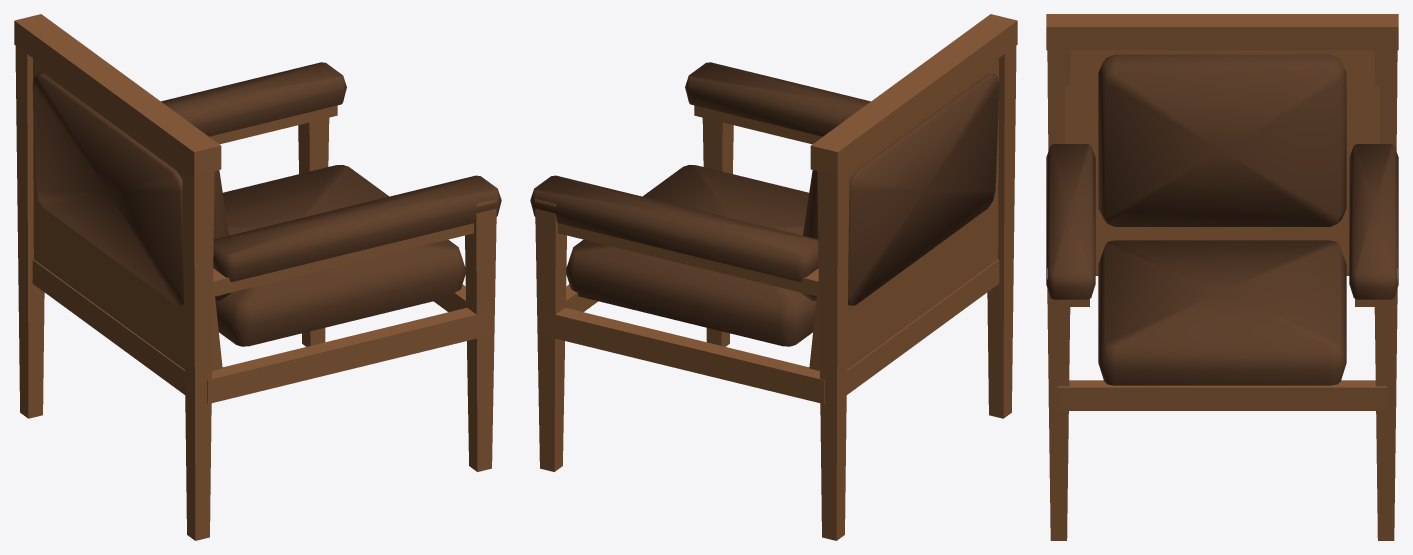
File: parametric-armchair-service.glb
3 views of the same model, side by side, from view 1: azimuth 30°, elevation 25°; view 2: azimuth 150°, elevation 25°; view 3: azimuth 270°, elevation 25° (orthographic). The views are drawn at different scales.
Parts seen in each view (by area): view 1: parametric-armchair-service; view 2: parametric-armchair-service; view 3: parametric-armchair-service.
Boxes of the visible parts, x1=… form: parametric-armchair-service: x1=14, y1=14, x2=501, y2=540; parametric-armchair-service: x1=530, y1=14, x2=1017, y2=540; parametric-armchair-service: x1=1046, y1=14, x2=1398, y2=540.
Bounding box in the file's own units: 0.75 × 0.9 × 0.75.
